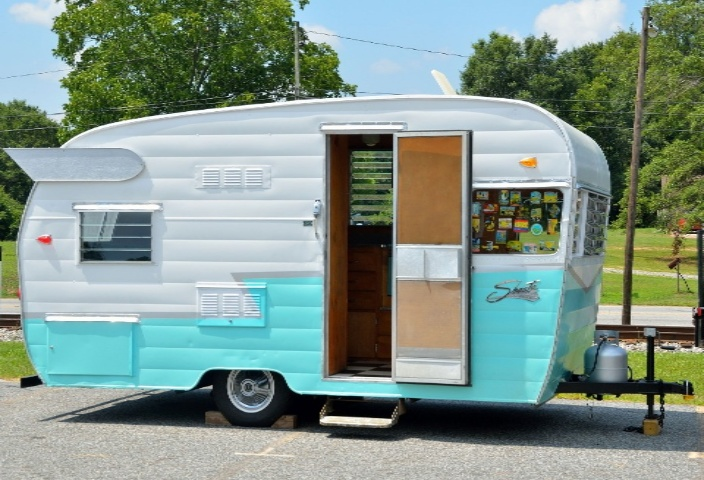van: (8, 81, 698, 479)
